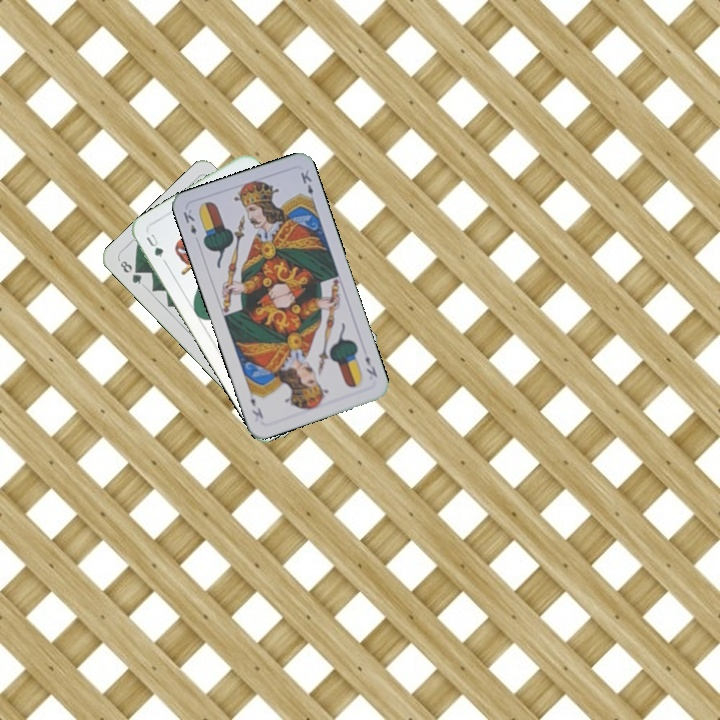EK: (179, 205, 199, 237), (361, 352, 380, 380)
G8: (116, 256, 145, 287)
GU: (142, 229, 166, 260)
